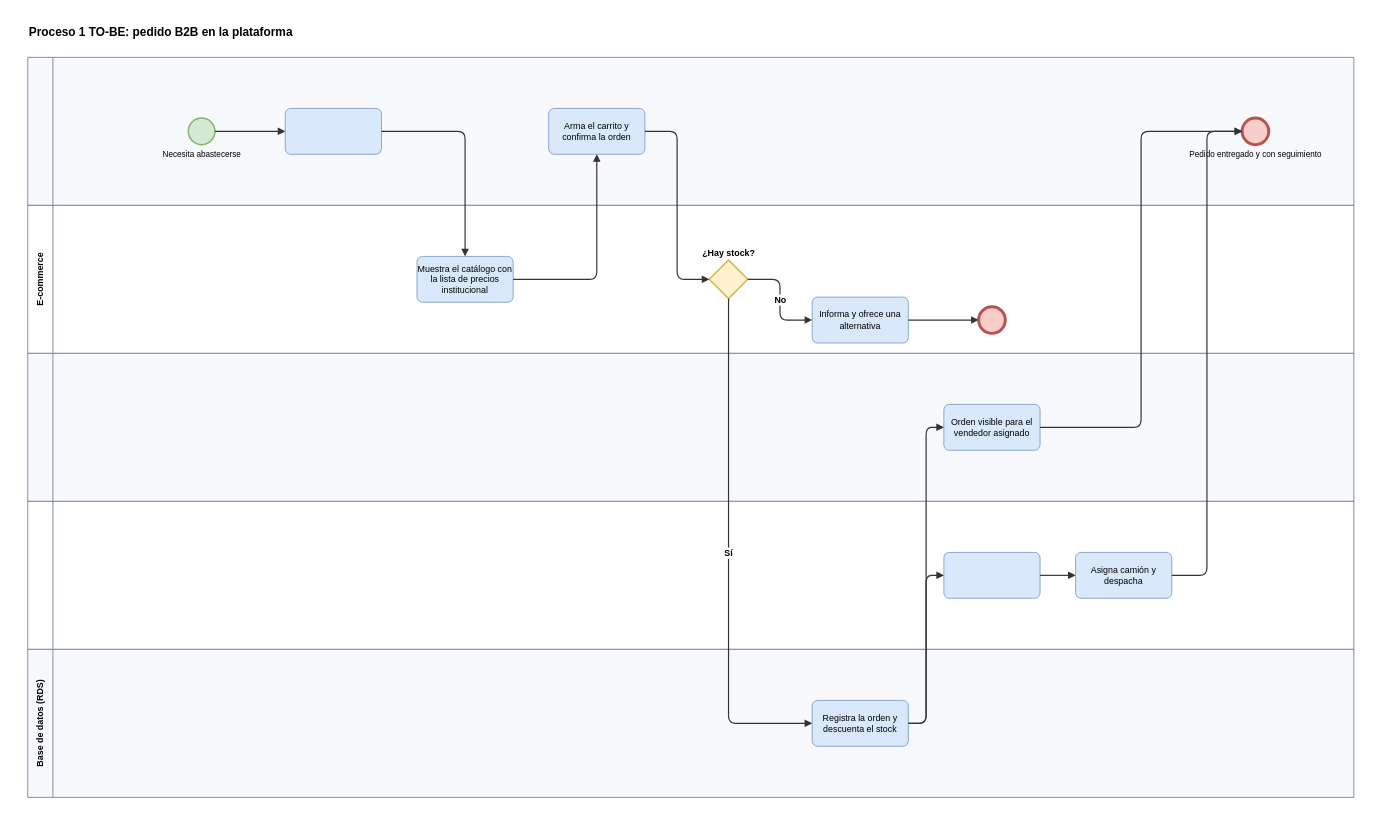
Image size: 1381x839. Some labels were removed from this diagram. Each missing label, with the box of its shape:
Bodega: (27, 501, 1354, 649)
Cliente institucional: (27, 57, 1354, 205)
CRM: (27, 353, 1354, 501)
Inicia sesión con perfil B2B: (285, 108, 381, 154)
Orden no generada: (977, 305, 1006, 334)
Ve la orden y prepara el pedido: (943, 552, 1040, 598)
